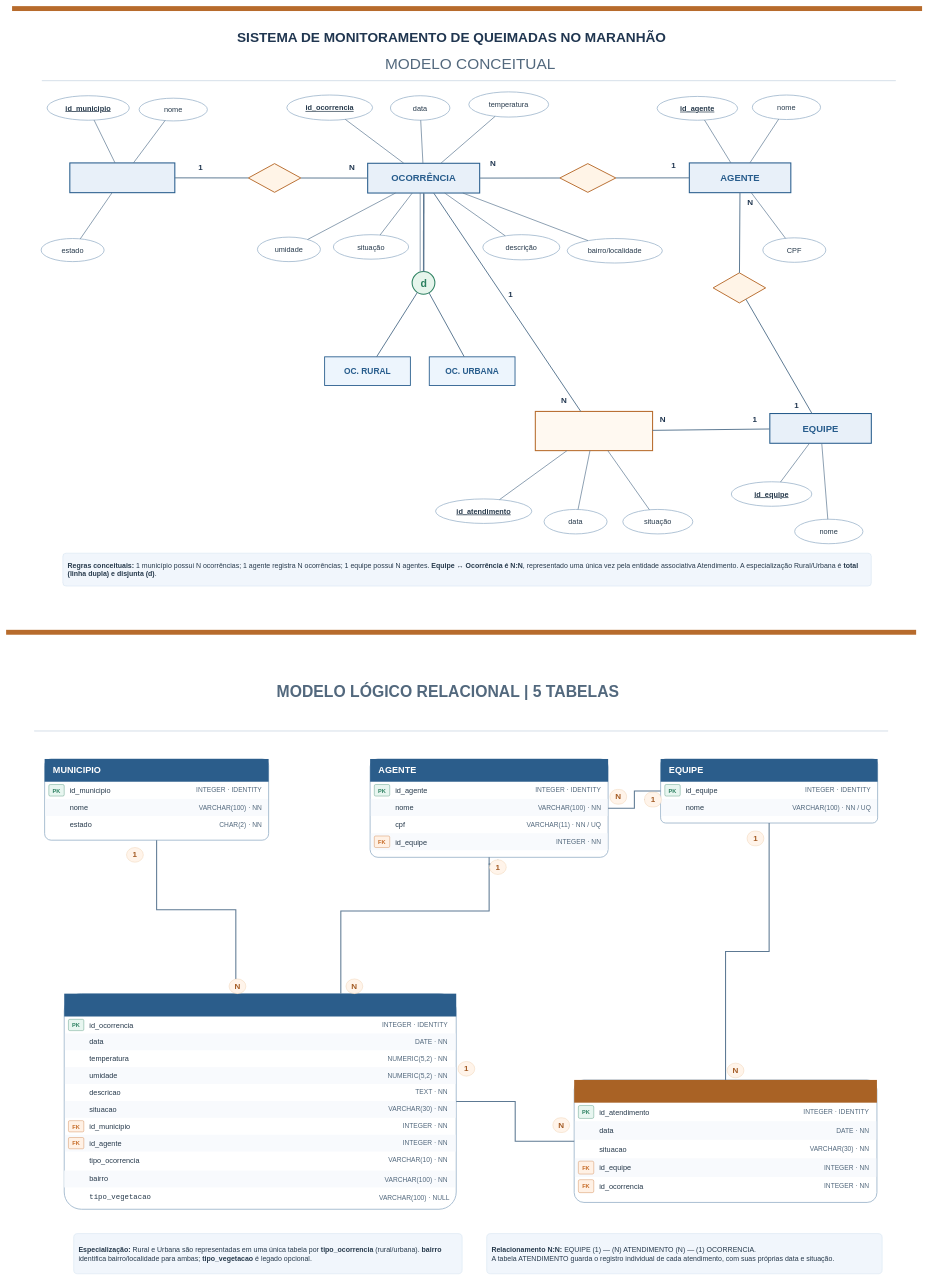
The diagram is 928 pixels wide and 1280 high, and some of its shapes have lost their labels. Here are the shapes that lost their labels. From the top down, the centre of each, then its label:
At (x=122, y=177): "MUNICÍPIO".
At (x=274, y=178): "Possui".
At (x=587, y=178): "Registra".
At (x=739, y=287): "Integra".
At (x=594, y=431): "ATENDIMENTO (associativa N:N)".
At (x=260, y=1004): "OCORRENCIA".
At (x=725, y=1091): "ATENDIMENTO".
